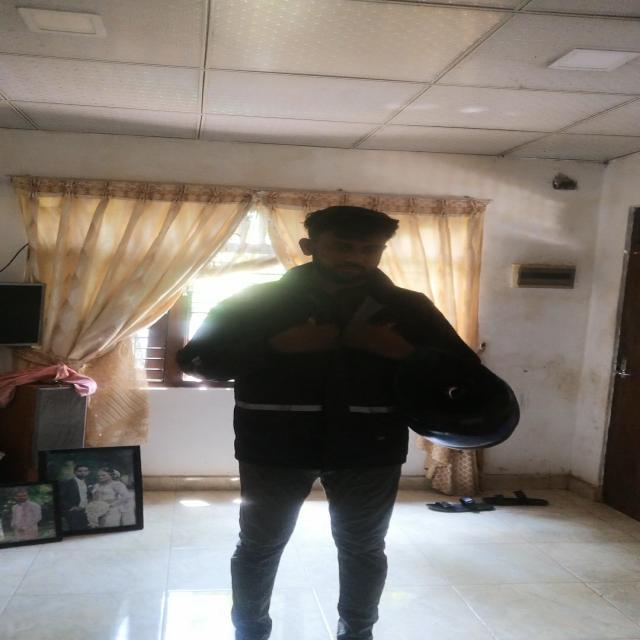Jacket_Wearer: (173, 265, 477, 463)
Person: (182, 198, 477, 632)
